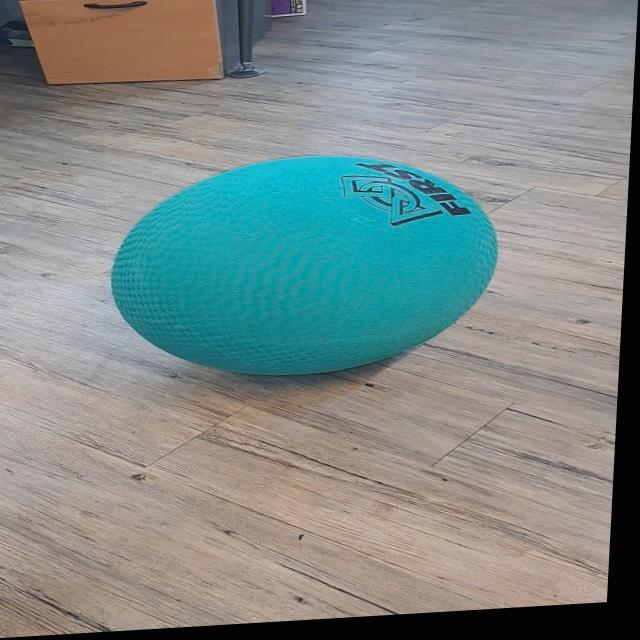ALGAE: (102, 143, 505, 388)
